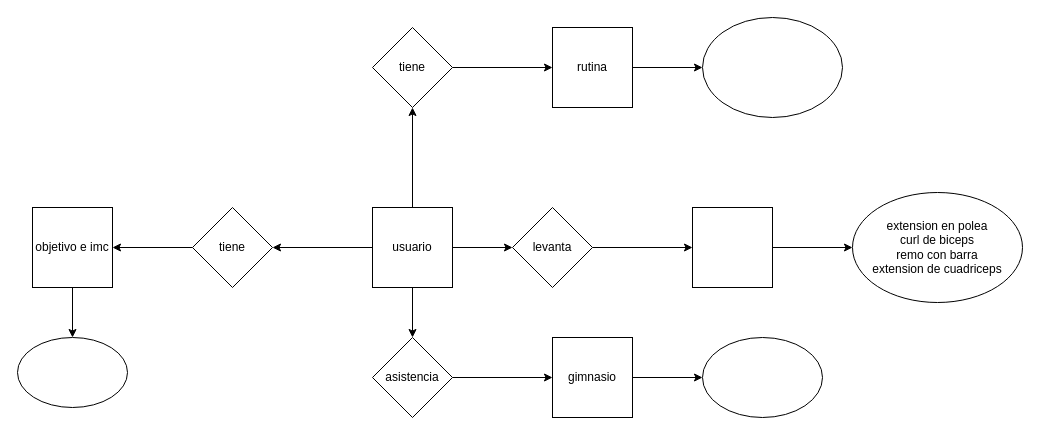
This 1040x435 diagram has some shape labels left out. Each missing label, with the centre of its shape:
"cantidad de asistencia" belongs at (762,377).
"pecho triceps biceps espalda antebrazo pierna" belongs at (772,67).
"peso altura actividad fisica" belongs at (72,372).
"pesos" belongs at (732,247).
